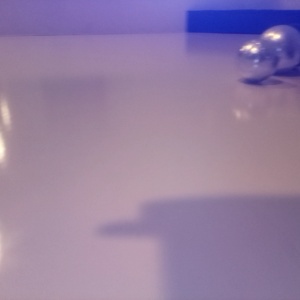alive_ball: (261, 24, 300, 70), (235, 39, 276, 81)
